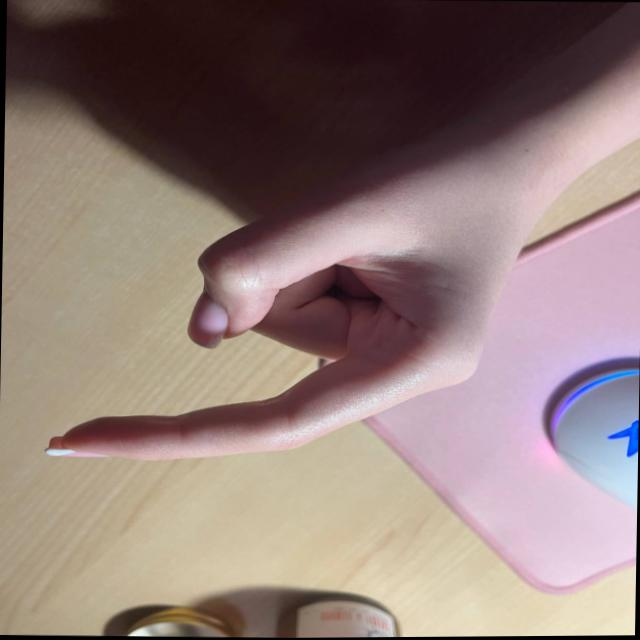z: (31, 162, 532, 514)
